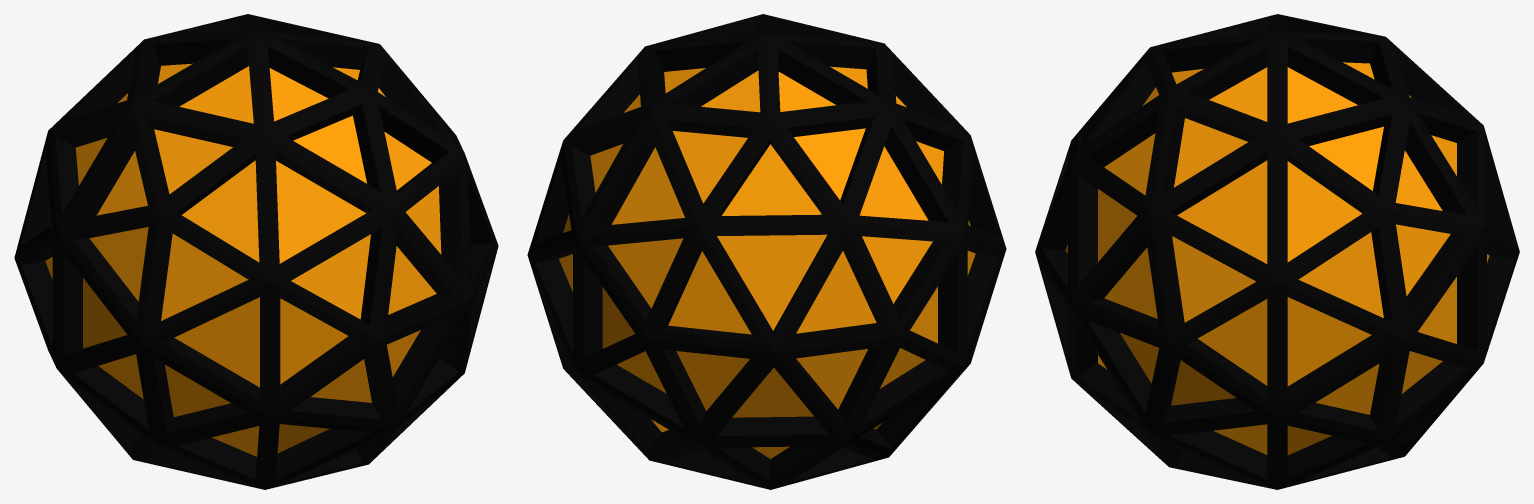
Rendered from glowsphere.dae.
The picture shows the model from 3 angles, left to right: view 1: azimuth 30°, elevation 25°; view 2: azimuth 150°, elevation 25°; view 3: azimuth 270°, elevation 25°; orthographic projection.
Visible parts, largest first — view 1: GeoSphere06 (×2); view 2: GeoSphere06 (×2); view 3: GeoSphere06 (×2).
Part boxes in pixels (box(x1,y1,x2,y2)): GeoSphere06 (×2): box(14, 14, 498, 489); GeoSphere06 (×2): box(527, 14, 1006, 489); GeoSphere06 (×2): box(1035, 14, 1519, 489).
Size of the model in its own units: 89.51 by 94.12 by 94.12.
